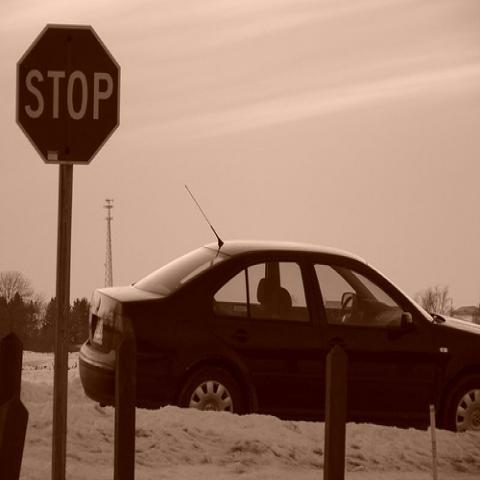car: (78, 236, 479, 433)
